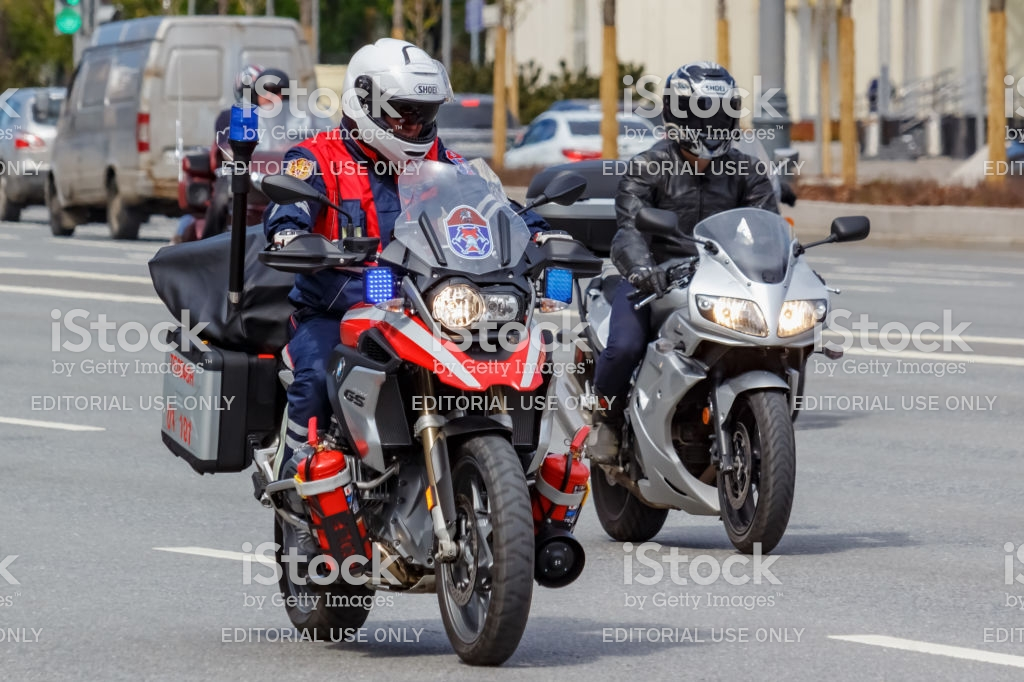helmet: (349, 41, 453, 166), (660, 59, 745, 170)
